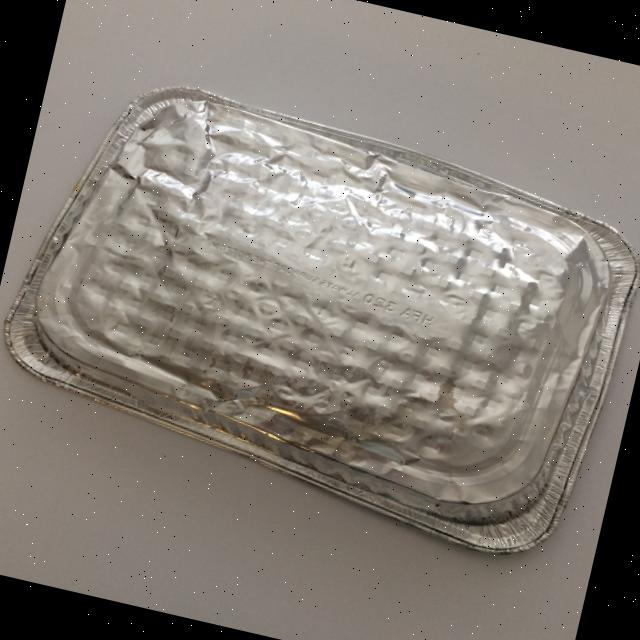metal: (0, 56, 640, 572)
